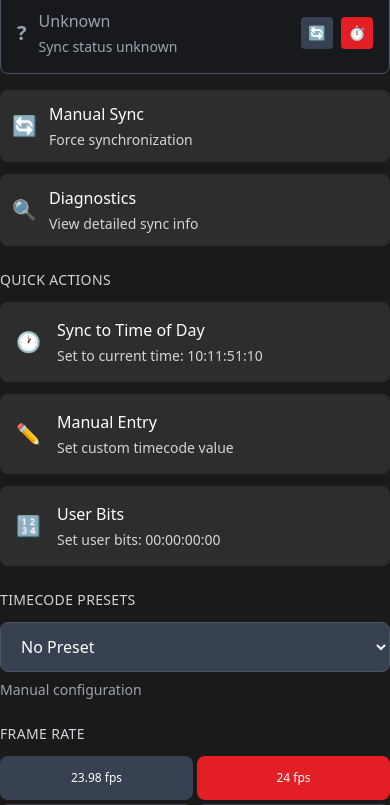
Scenario: TimecodeSettings › opens manual timecode entry modal
The image size is (390, 805).
(page scrolled)
Click the text "Manual Entry".
click(107, 422)  # box [57, 411, 157, 433]
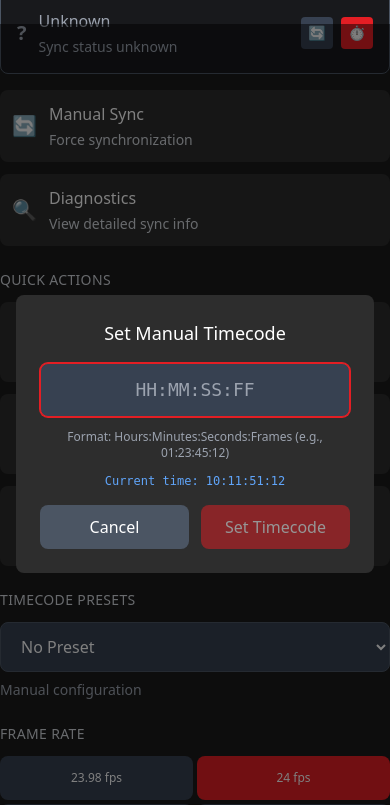
expect the heading "Set Manual Timecode" is shown: met, box [104, 321, 286, 345]
expect the field with placeholder "HH:MM:SS:FF" is shown: met, box [40, 363, 350, 417]
